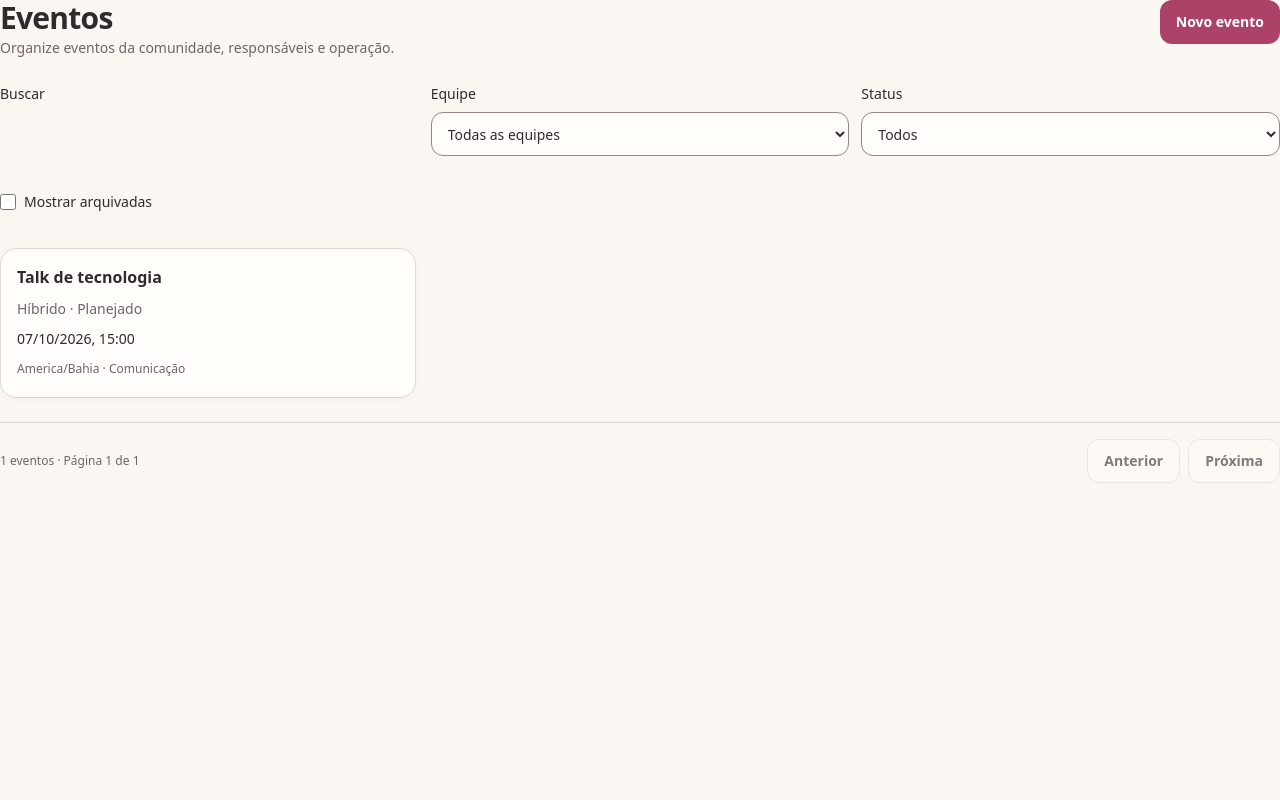
Test: lista abre detalhe existente e oferece filtros
This screenshot has width=1280, height=800.
Click the button with aria-label "Abrir evento Talk de tecnologia" at [89, 277], box [0,248,416,398]
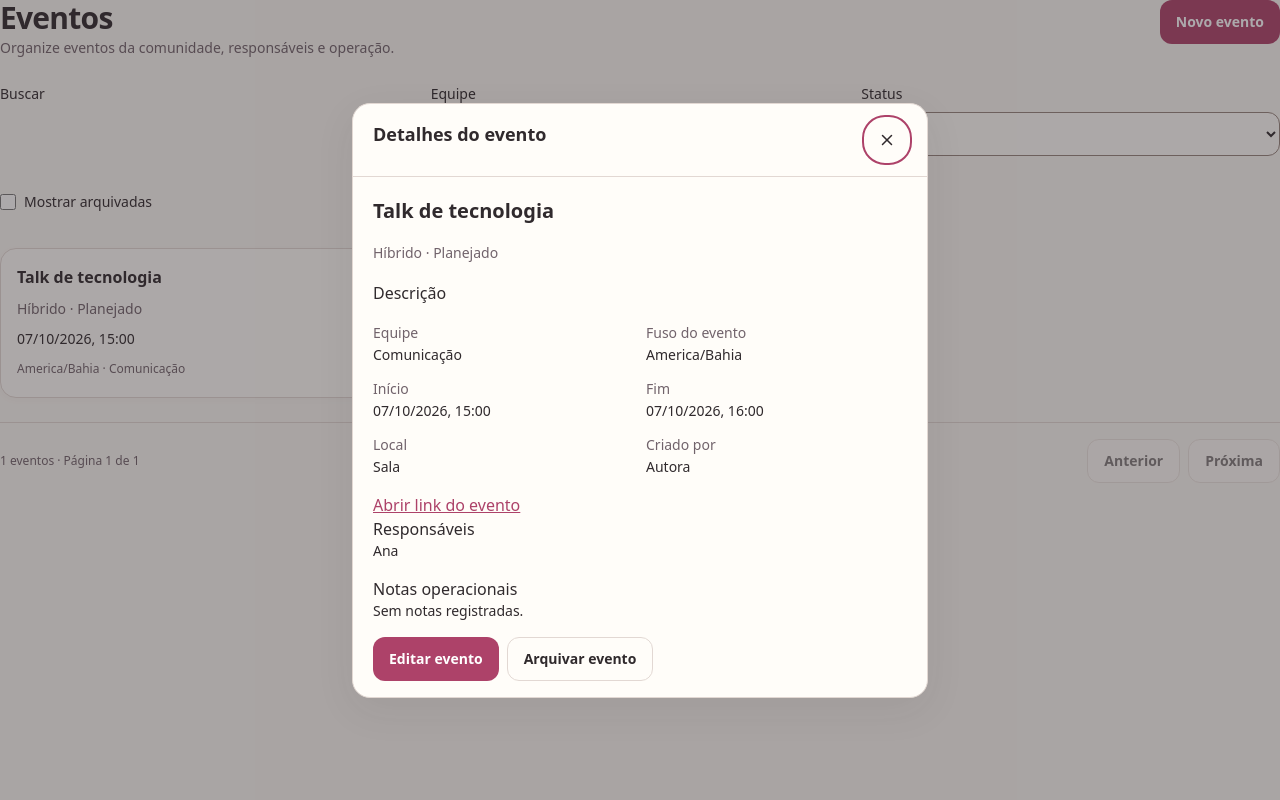
Expected: the heading "Detalhes do evento" is shown, [373,120,546,148]
